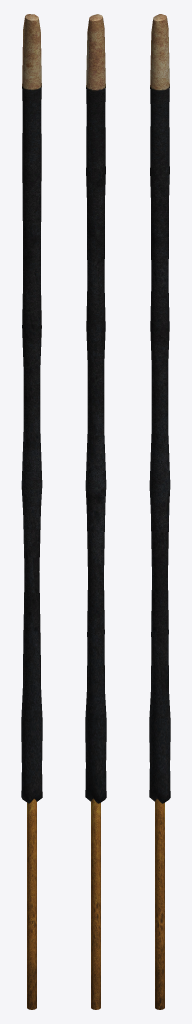
Rendered from incense_stick_03.DAE.
3 views of the same model, side by side, from view 1: azimuth 30°, elevation 25°; view 2: azimuth 150°, elevation 25°; view 3: azimuth 330°, elevation 25° (orthographic).
Parts seen in each view (by area): view 1: incense_stick_03; view 2: incense_stick_03; view 3: incense_stick_03.
Boxes of the visible parts, x1,y1,x2,y2 form: incense_stick_03: [21, 14, 42, 1009]; incense_stick_03: [85, 14, 106, 1009]; incense_stick_03: [149, 14, 170, 1009].
Bounding box in the file's own units: 0.6967 × 34.97 × 0.6811.
